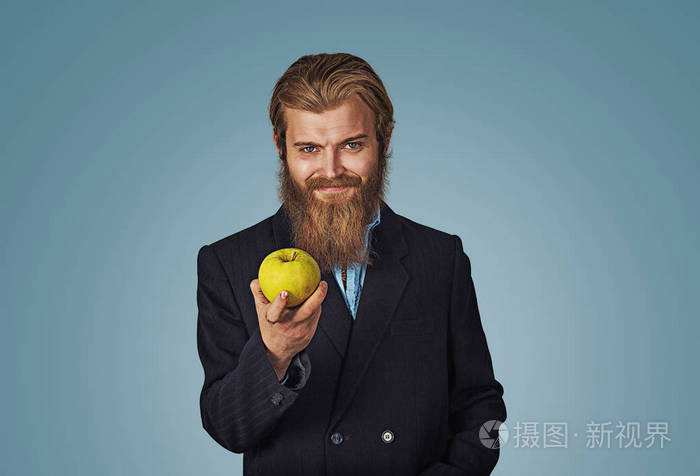no-phone: (249, 246, 332, 361)
